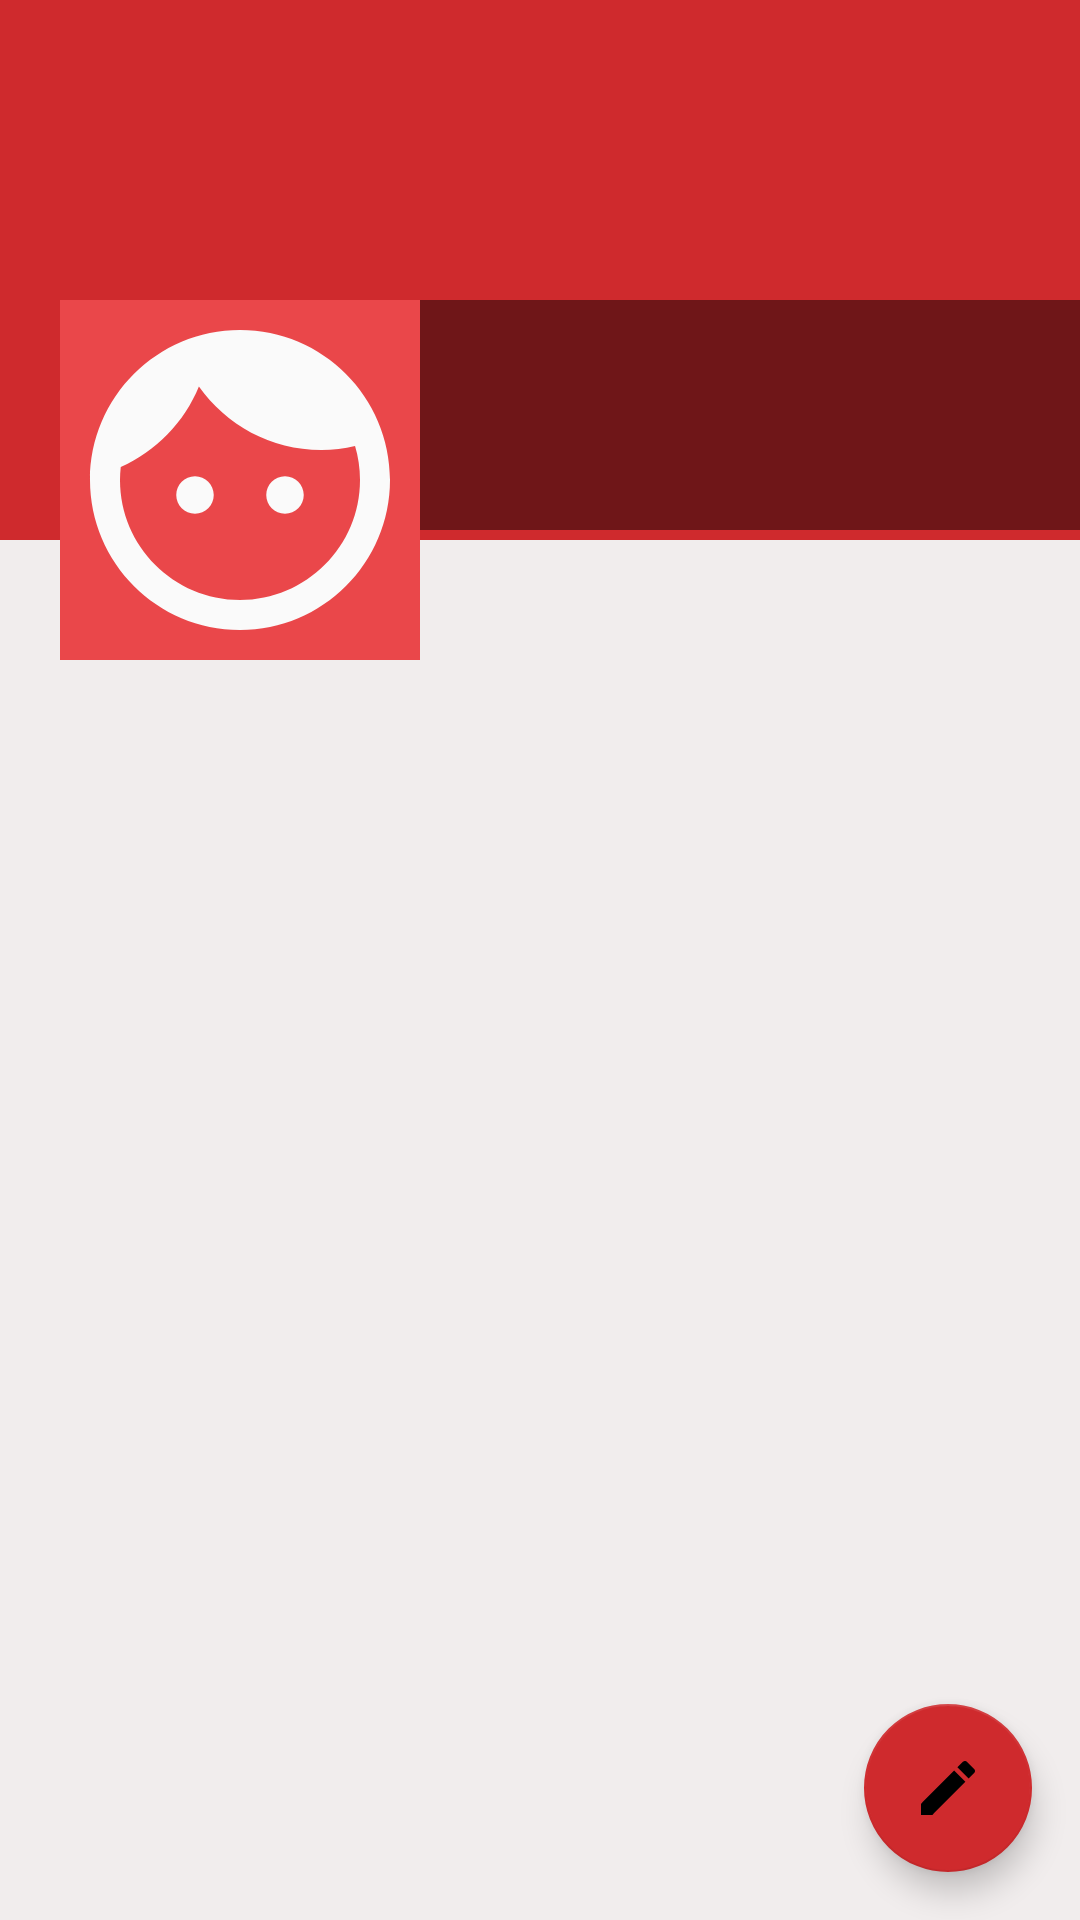

Point at icon controls on the screen. Image size 1080*1920, points as [x,y].
edit: [948,1788]
face: [240,480]
